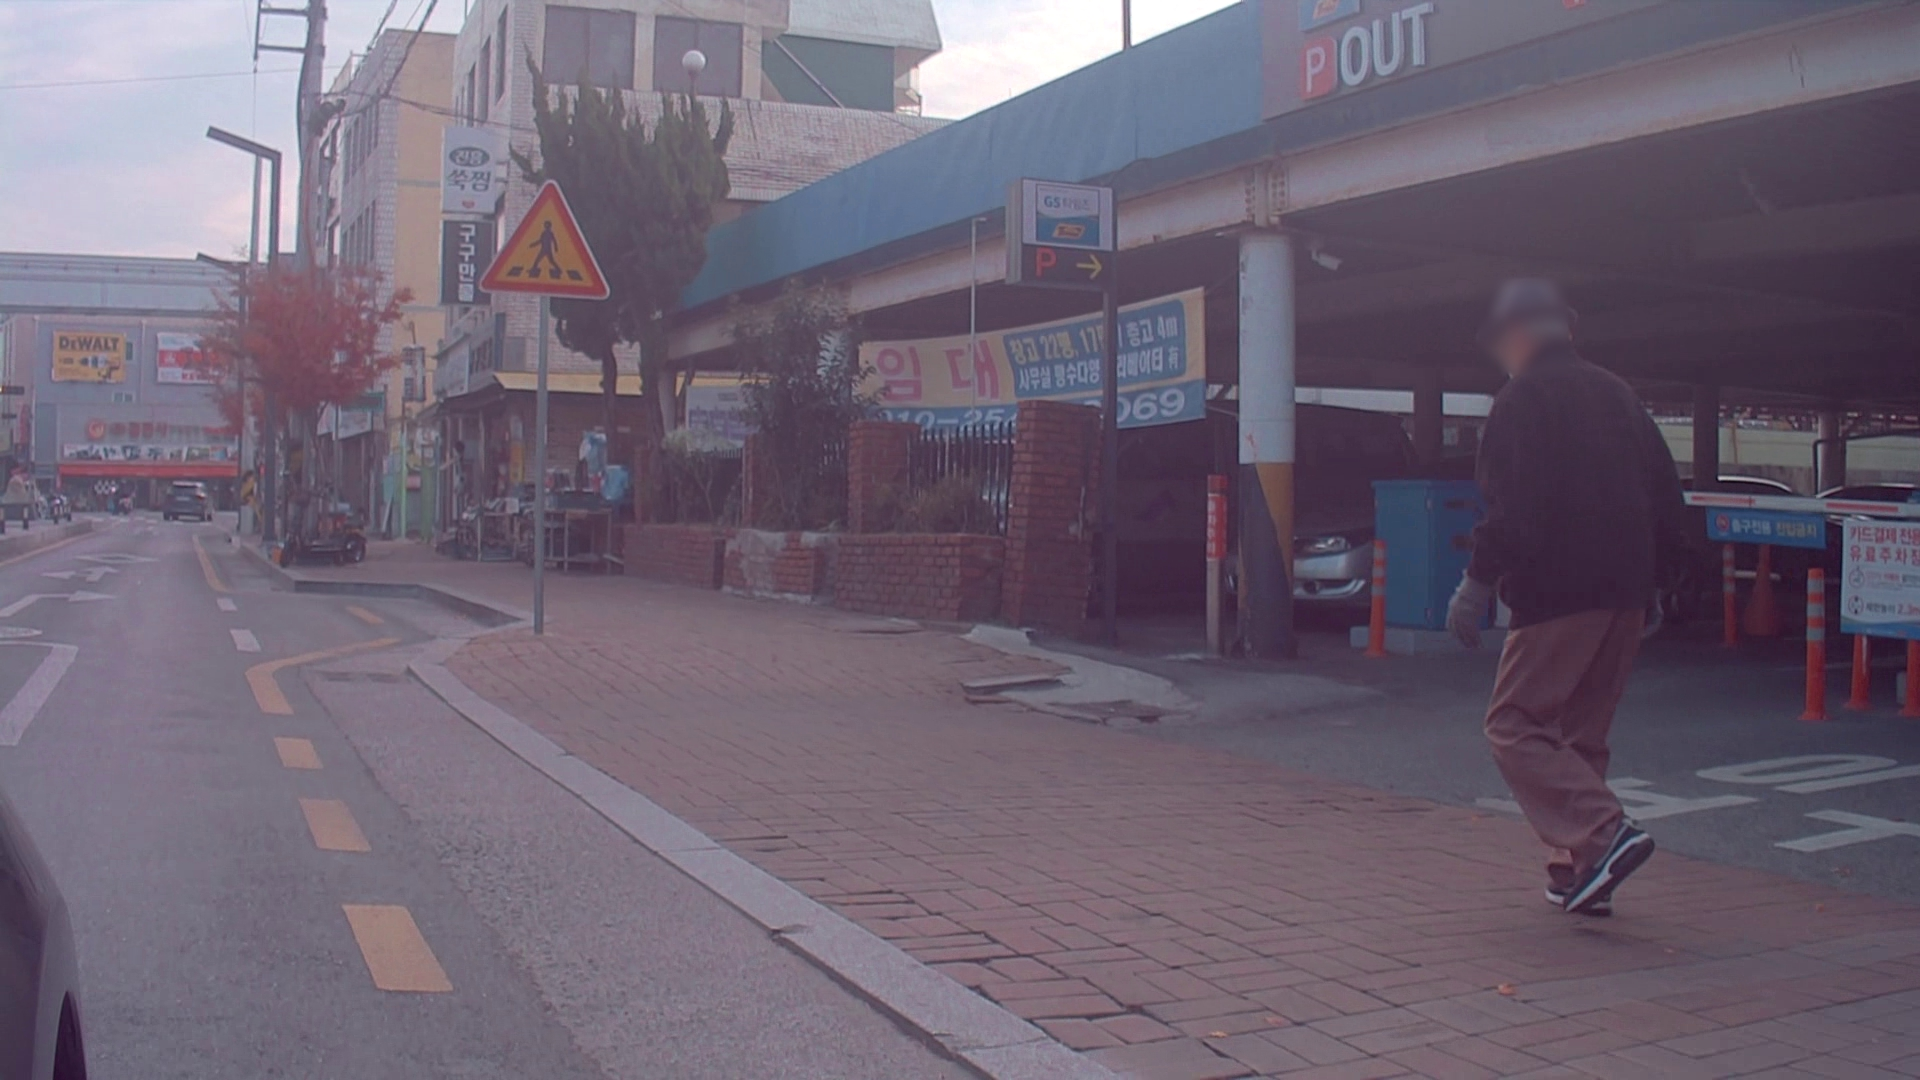trafficSignTri: (477, 177, 617, 305)
